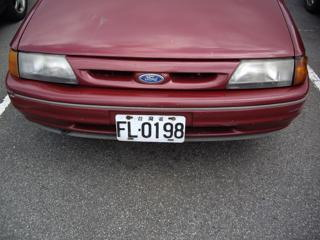plate: (112, 112, 187, 145)
